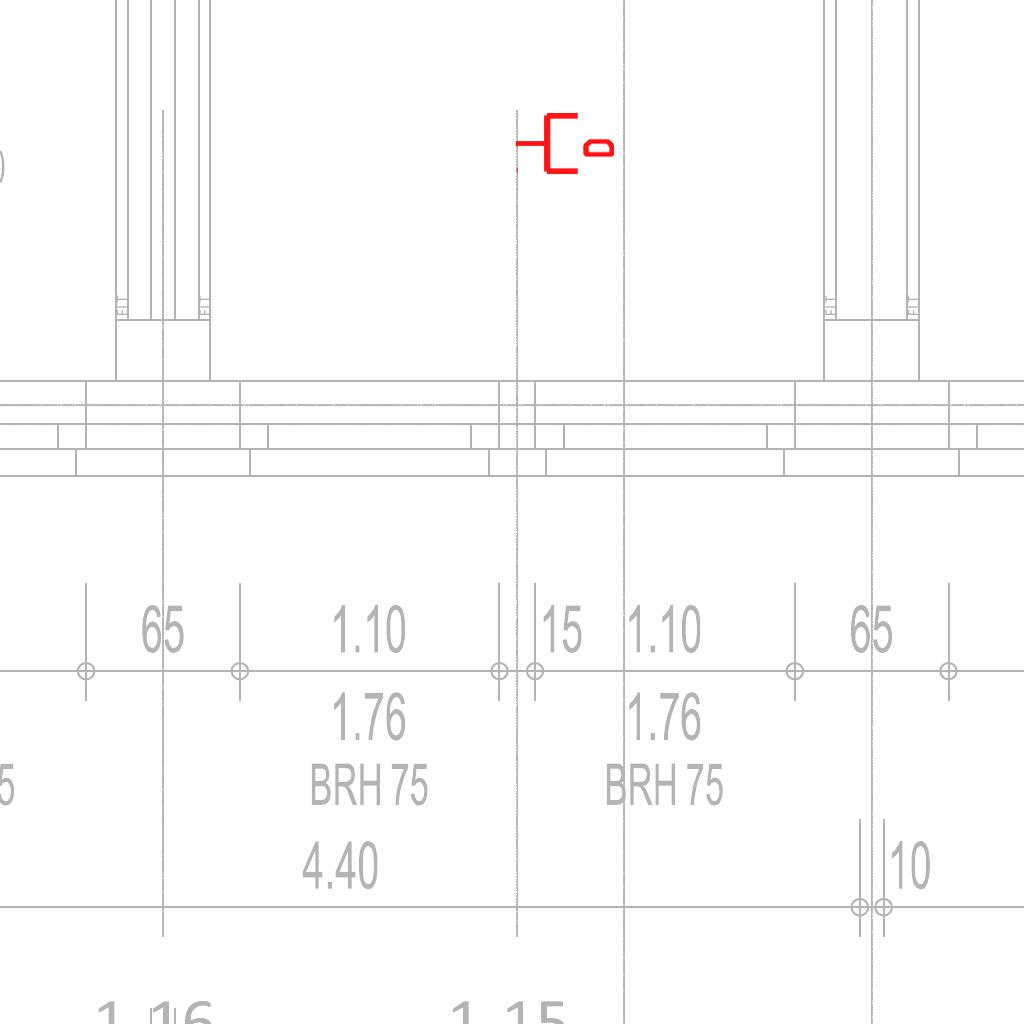Datenanschluss_einfach: (514, 109, 614, 178)
